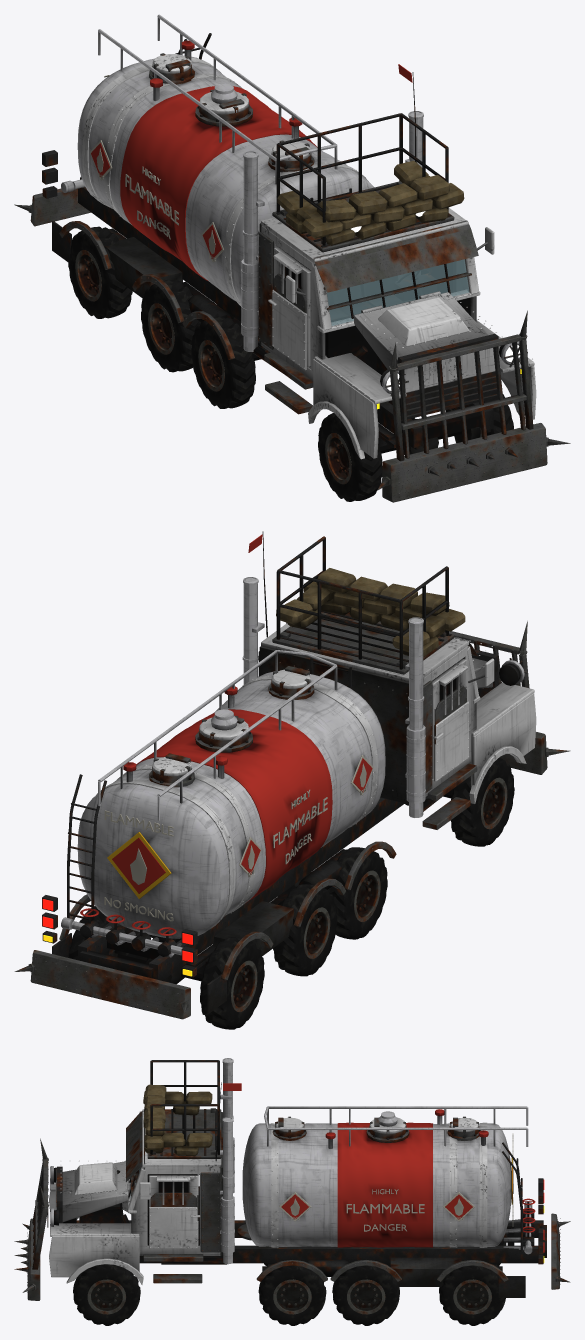
File: e_tanker.glb
The picture shows the model from 3 angles, top to bottom: view 1: azimuth 30°, elevation 25°; view 2: azimuth 150°, elevation 25°; view 3: azimuth 270°, elevation 25°; orthographic projection. The views are drawn at different scales.
Visible parts, largest first — view 1: body, panel_bumper_F, panel_hood, panel_fender_R, wheel_MR, wheel_RR2, wheel_RR, panel_door_R, wheel_FR, panel_stack_R, panel_armor_R, panel_bumper_R (+2 smaller); view 2: body, panel_bumper_R, panel_fender_R, wheel_RR2, wheel_RR, wheel_MR, wheel_FR, panel_stack_R, panel_door_R, panel_bumper_F, panel_armor_R, panel_stack_L; view 3: body, panel_fender_L, wheel_FL, wheel_ML, wheel_RL, panel_hood, panel_door_L, wheel_RL2, panel_armor_L, panel_bumper_F, panel_stack_L, panel_bumper_R (+1 smaller).
Boxes of the visible parts, <box> form: body: <box>42,14,527,454</box>; panel_bumper_F: <box>377,310,570,502</box>; panel_hood: <box>354,291,495,392</box>; panel_fender_R: <box>308,353,406,459</box>; wheel_MR: <box>191,316,255,408</box>; wheel_RR2: <box>68,226,132,318</box>; wheel_RR: <box>141,280,200,372</box>; panel_door_R: <box>268,247,311,370</box>; wheel_FR: <box>318,413,382,501</box>; panel_stack_R: <box>241,151,264,351</box>; panel_armor_R: <box>258,232,306,349</box>; panel_bumper_R: <box>14,188,90,226</box>; body: <box>42,531,527,1013</box>; panel_bumper_R: <box>14,950,190,1019</box>; panel_fender_R: <box>469,682,536,803</box>; wheel_RR2: <box>200,937,264,1029</box>; wheel_RR: <box>273,884,337,976</box>; wheel_MR: <box>328,847,387,939</box>; wheel_FR: <box>450,758,514,846</box>; panel_stack_R: <box>405,617,425,817</box>; panel_door_R: <box>432,658,494,781</box>; panel_bumper_F: <box>449,621,570,774</box>; panel_armor_R: <box>423,680,466,792</box>; panel_stack_L: <box>242,577,264,686</box>; body: <box>47,1060,546,1297</box>; panel_fender_L: <box>49,1223,143,1284</box>; wheel_FL: <box>73,1264,140,1325</box>; wheel_ML: <box>258,1259,326,1325</box>; wheel_RL: <box>332,1259,399,1325</box>; panel_hood: <box>55,1160,130,1222</box>; panel_door_L: <box>139,1175,200,1248</box>; wheel_RL2: <box>439,1259,505,1325</box>; panel_armor_L: <box>150,1172,220,1252</box>; panel_bumper_F: <box>14,1138,48,1300</box>; panel_stack_L: <box>220,1117,234,1264</box>; panel_bumper_R: <box>551,1213,570,1289</box>.
Size of the model in its own units: 3.13 by 4.94 by 10.2.
Materials: 15 (8 with a texture image).
